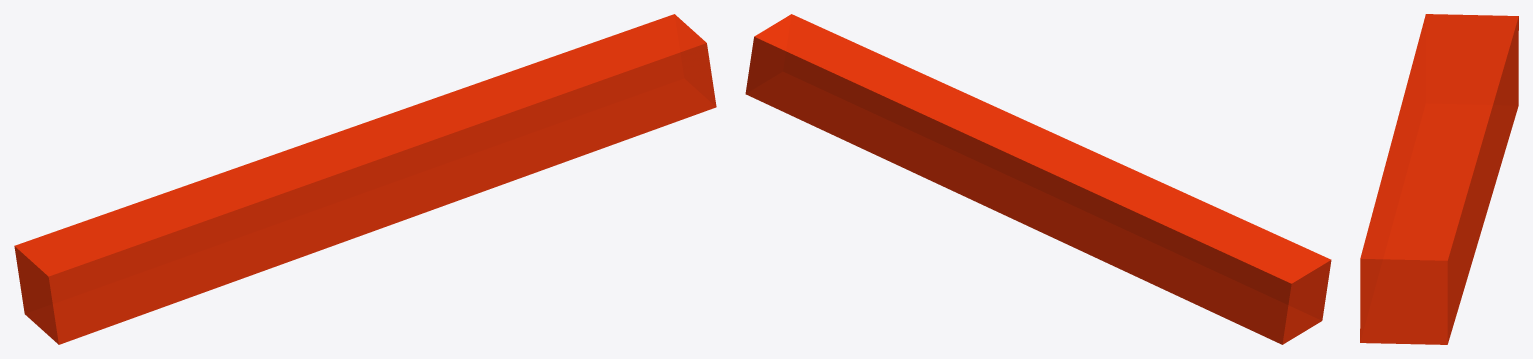
Rendered from Event_420604493_EErechit_38.fbx.
3 views of the same model, side by side, from view 1: azimuth 30°, elevation 25°; view 2: azimuth 150°, elevation 25°; view 3: azimuth 270°, elevation 25° (orthographic). The views are drawn at different scales.
Parts seen in each view (by area): view 1: Model; view 2: Model; view 3: Model.
Part boxes in pixels (box(x1,y1,x2,y2)): Model: box(14, 14, 716, 344); Model: box(745, 14, 1331, 344); Model: box(1360, 14, 1518, 344).
Size of the model in its own units: 0.7266 by 0.1848 by 0.1312.
